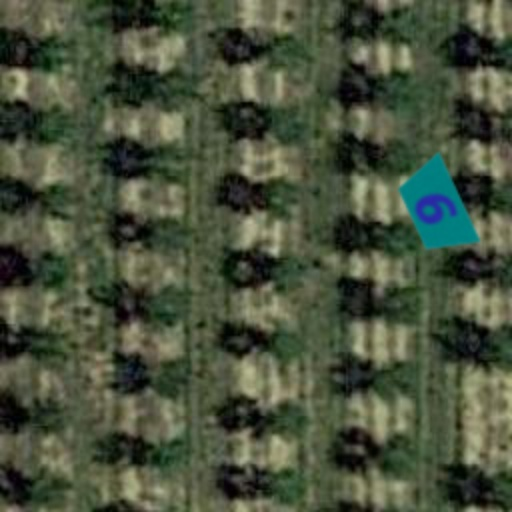trapezoid: (368, 140, 504, 276)
